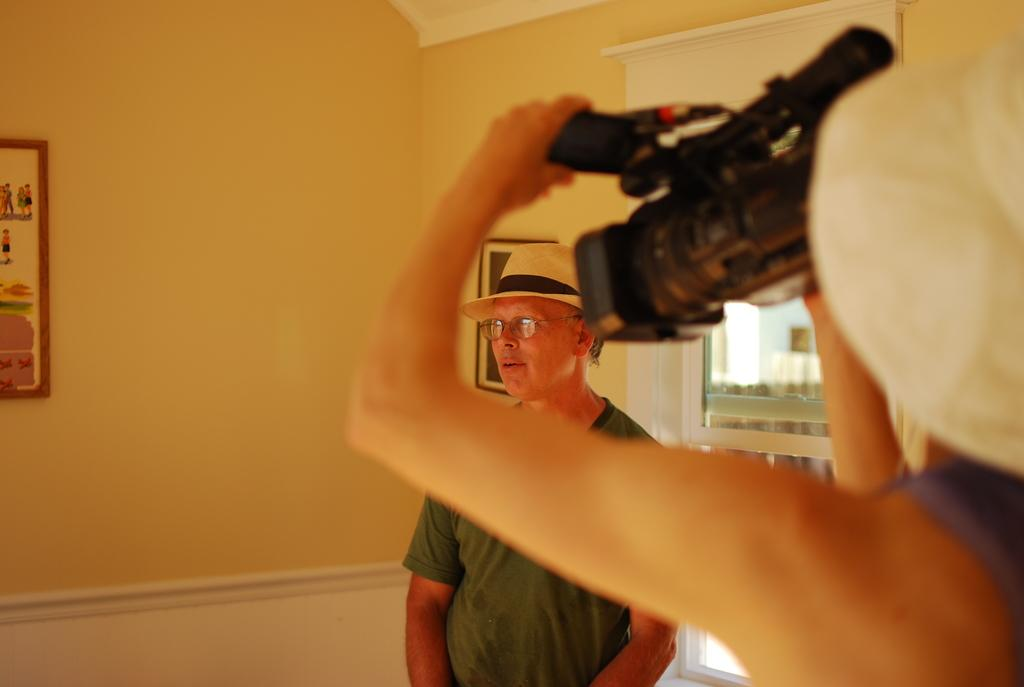Hat: (808, 30, 1022, 474), (460, 244, 584, 323)
